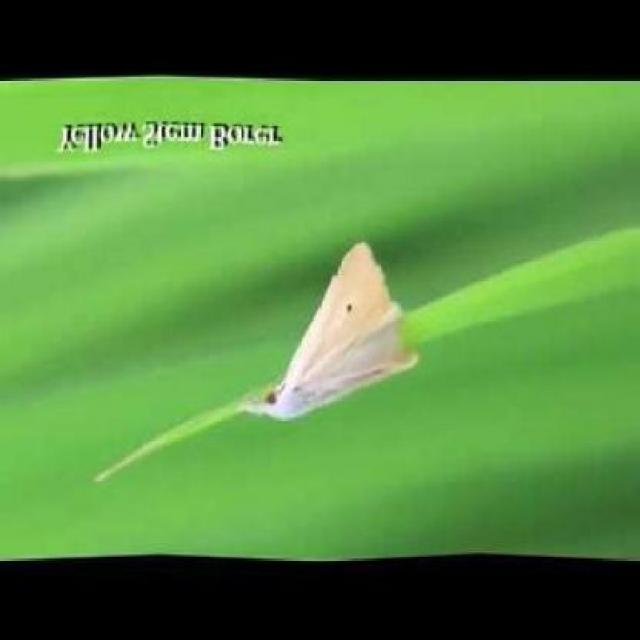stem-borer: (238, 238, 420, 422)
